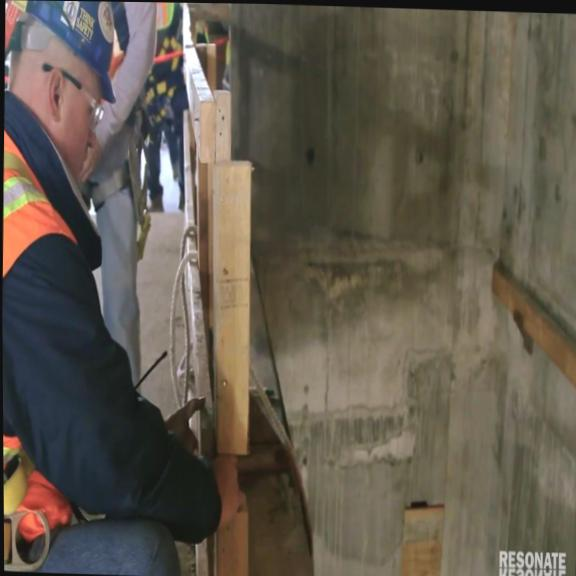safety_vest: (1, 120, 83, 540), (156, 2, 175, 31)
